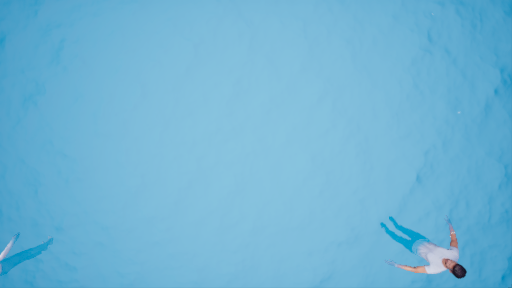person: (379, 210, 477, 282)
